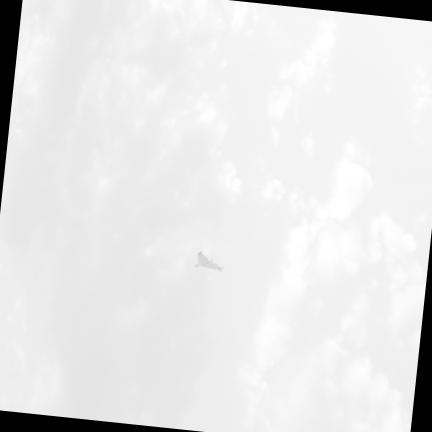Shahed: (194, 251, 222, 271)
